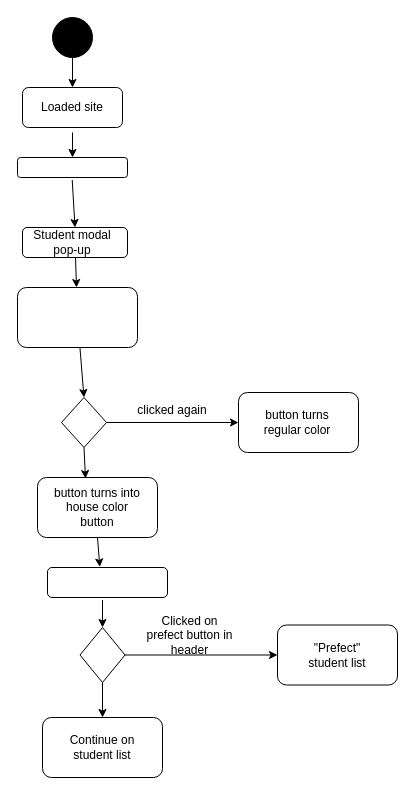
Image size: 415x795. Some labels were removed from this diagram. The centre of each missing label's shape, as x and y in pixels:
"Click on student" belongs at point 72,167.
"Exit" belongs at point 107,582.
"prefect button clicked" belongs at point 77,317.
